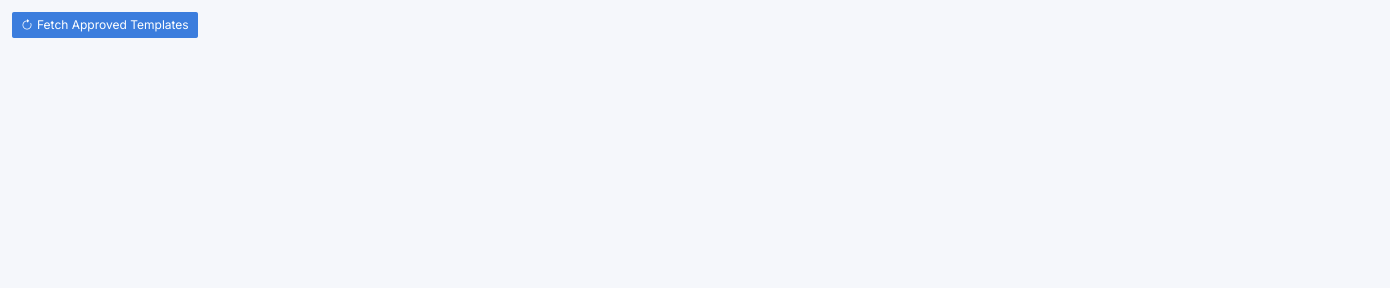
it: WABATemplateTesterWidget › 10. Send Test button is disabled when phone is empty
Click the button "Fetch Approved Templates" at coordinates (105, 25), box x1=12 y1=12 x2=198 y2=38
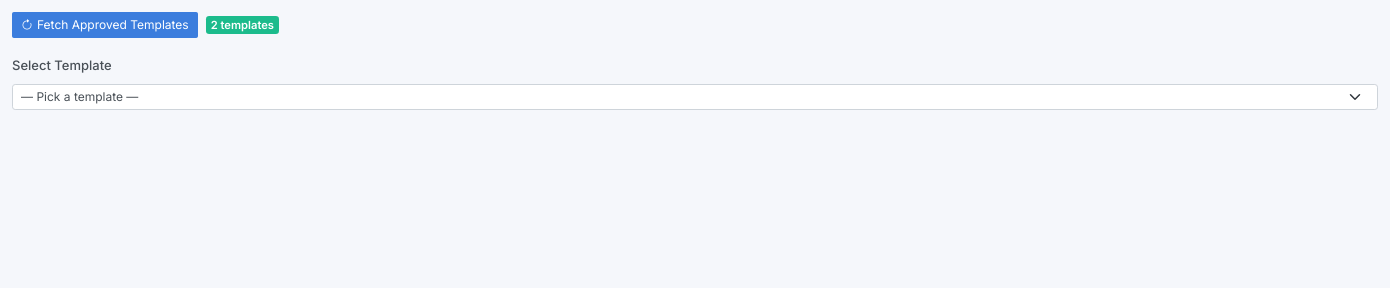
Select "simple_template | MARKETING | en" in the dropdown at coordinates (695, 97), box x1=12 y1=84 x2=1378 y2=110
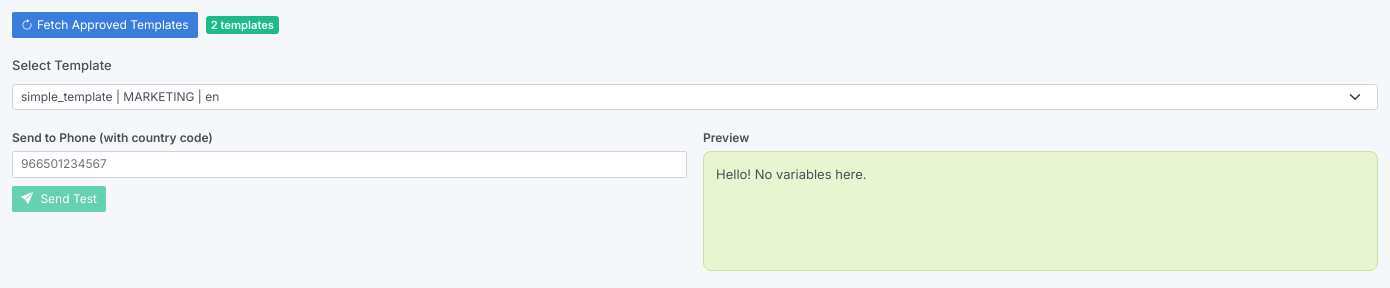
Expected: the button "Send Test" is disabled, x1=12 y1=186 x2=106 y2=212
